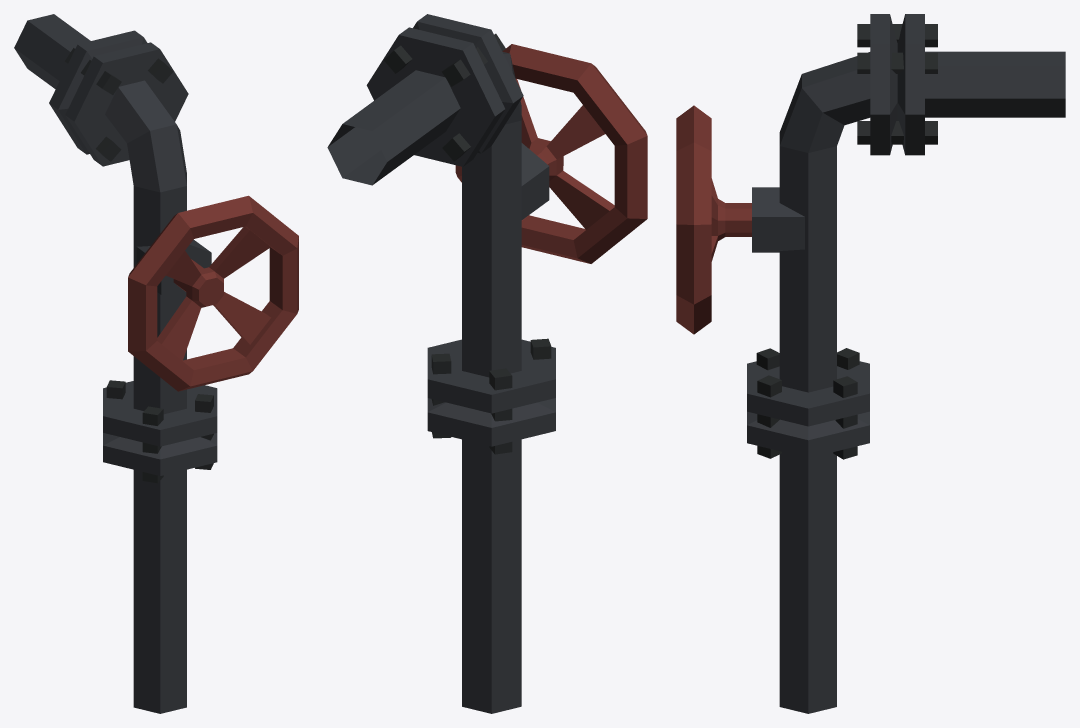
The model's file is SM_Prop_Pipe_Valve_01_Mesh.obj.
3 renders of one model, left to right at view 1: azimuth 30°, elevation 25°; view 2: azimuth 150°, elevation 25°; view 3: azimuth 270°, elevation 25°, orthographic. The views are drawn at different scales.
Parts seen in each view (by area): view 1: SM_Prop_Pipe_Valve_01_Mesh_0; view 2: SM_Prop_Pipe_Valve_01_Mesh_0; view 3: SM_Prop_Pipe_Valve_01_Mesh_0.
Part boxes in pixels (bbox=[...]): SM_Prop_Pipe_Valve_01_Mesh_0: bbox=[14, 14, 298, 713]; SM_Prop_Pipe_Valve_01_Mesh_0: bbox=[327, 14, 647, 713]; SM_Prop_Pipe_Valve_01_Mesh_0: bbox=[676, 14, 1065, 713].
Bounding box in the file's own units: 0.3869 × 1.35 × 0.71.
Materials: 1 (1 with a texture image).
